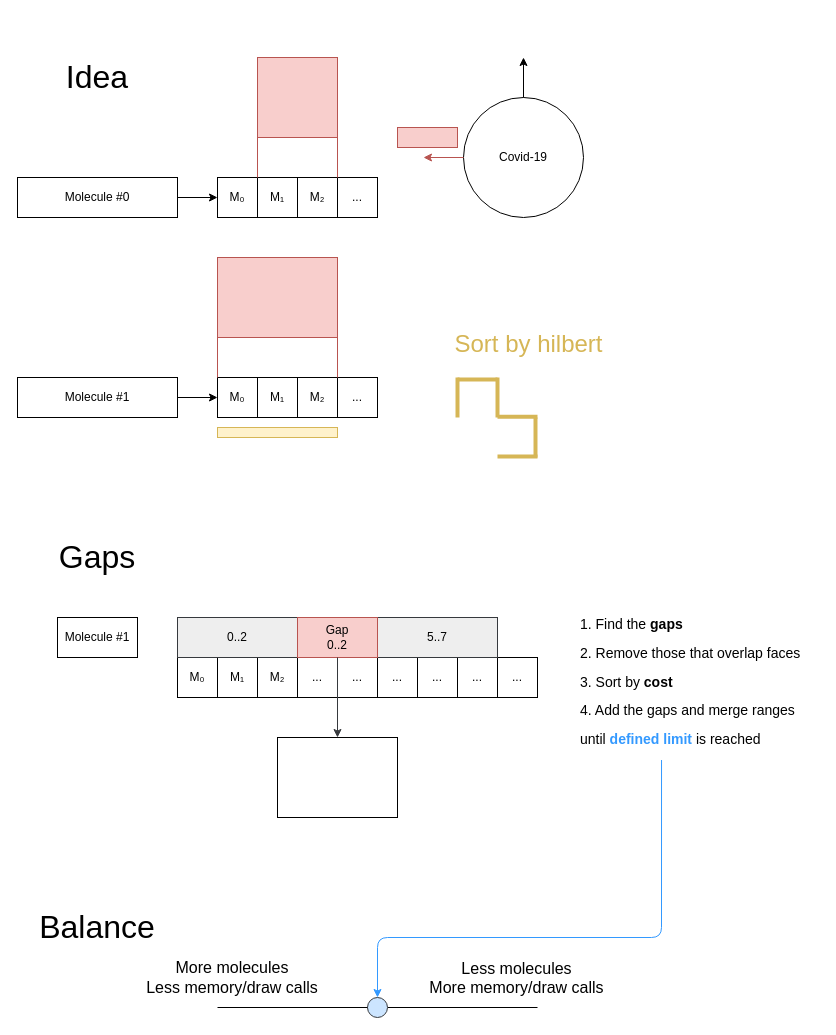
This 836x1035 diagram has some shape labels left out. Each missing label, with the box of its shape:
Cost = distance * atoms_per_molecule: (276, 736, 398, 818)
One view: (396, 126, 458, 148)
Run-Length Encoding (0..2): (216, 256, 338, 338)
Run-Length Encoding (1..2): (256, 56, 338, 138)
